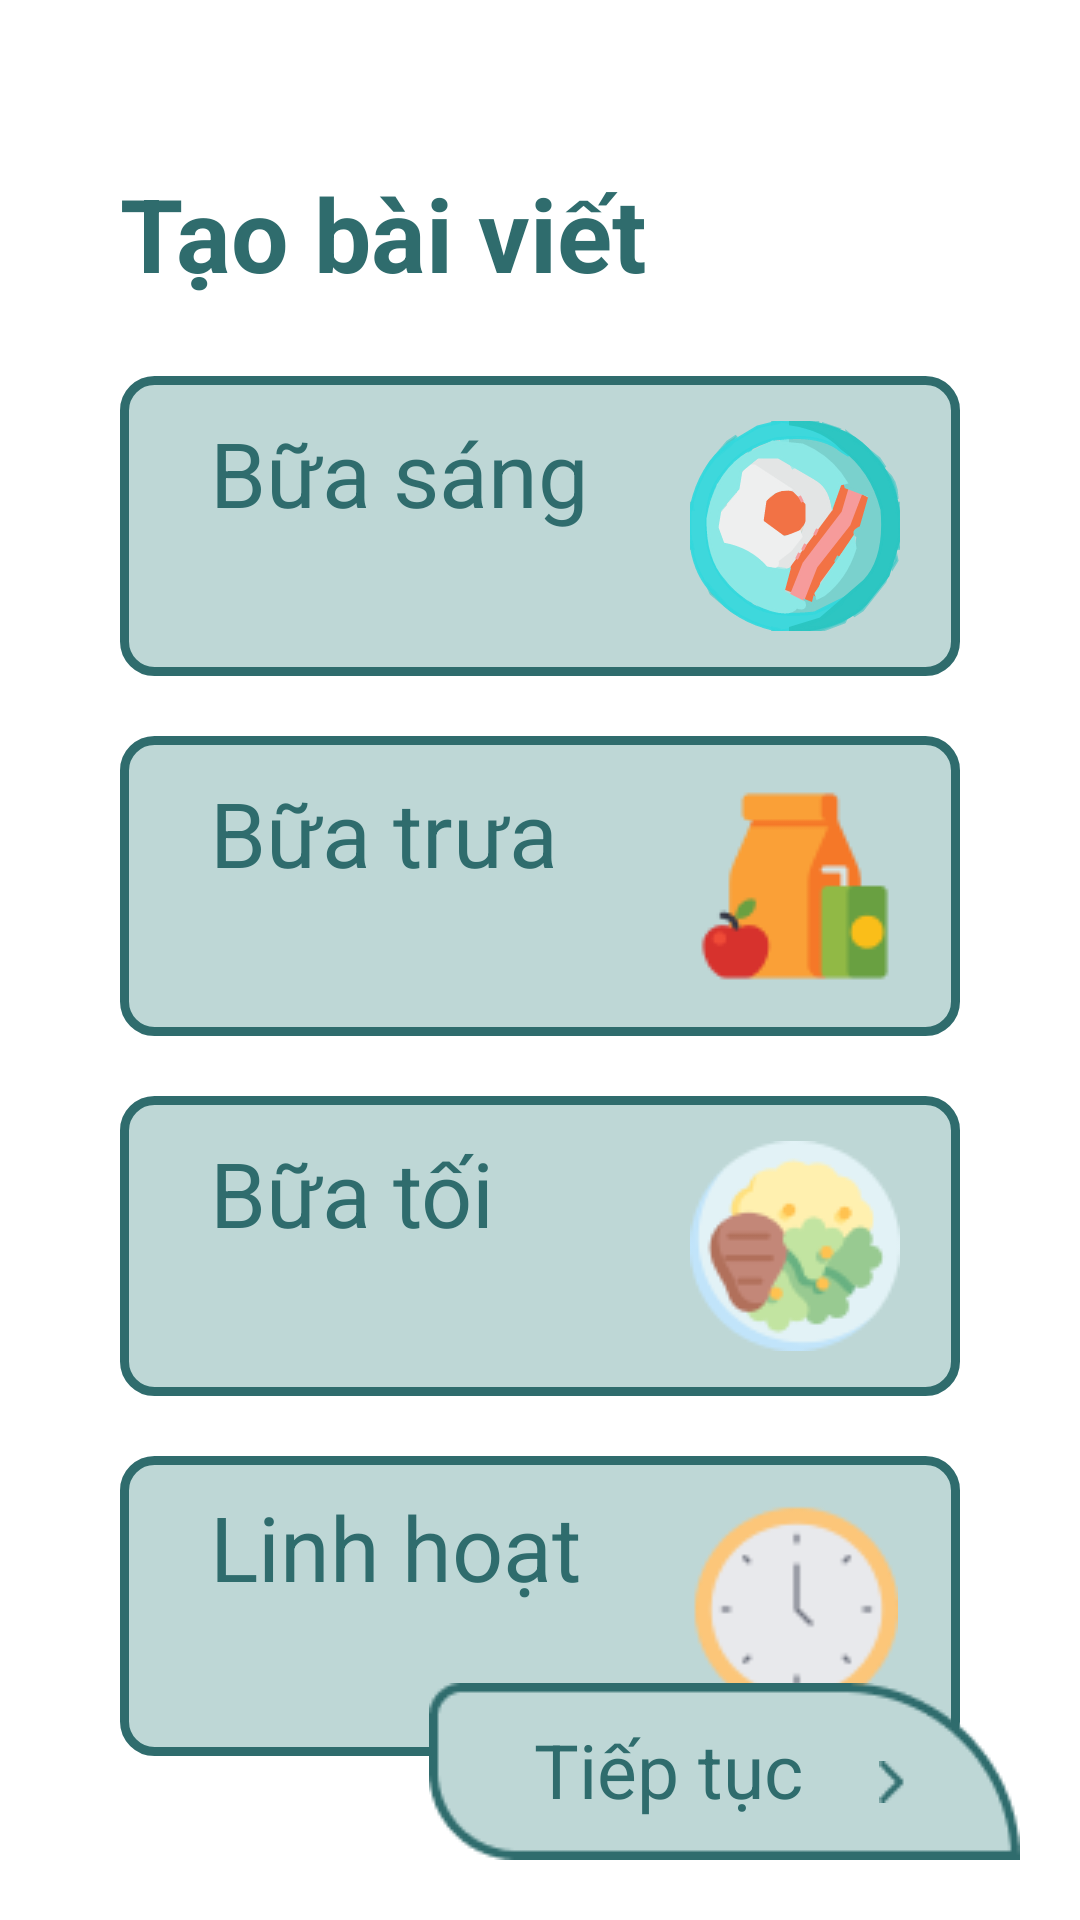

Where icons sit on this 1080*1920 app screen, as {"left": x1, "top": y1, "right": x2, "bottom": y2}:
breakfast: {"left": 690, "top": 421, "right": 900, "bottom": 631}
dinner: {"left": 690, "top": 1141, "right": 900, "bottom": 1351}
lunch: {"left": 701, "top": 792, "right": 889, "bottom": 980}
